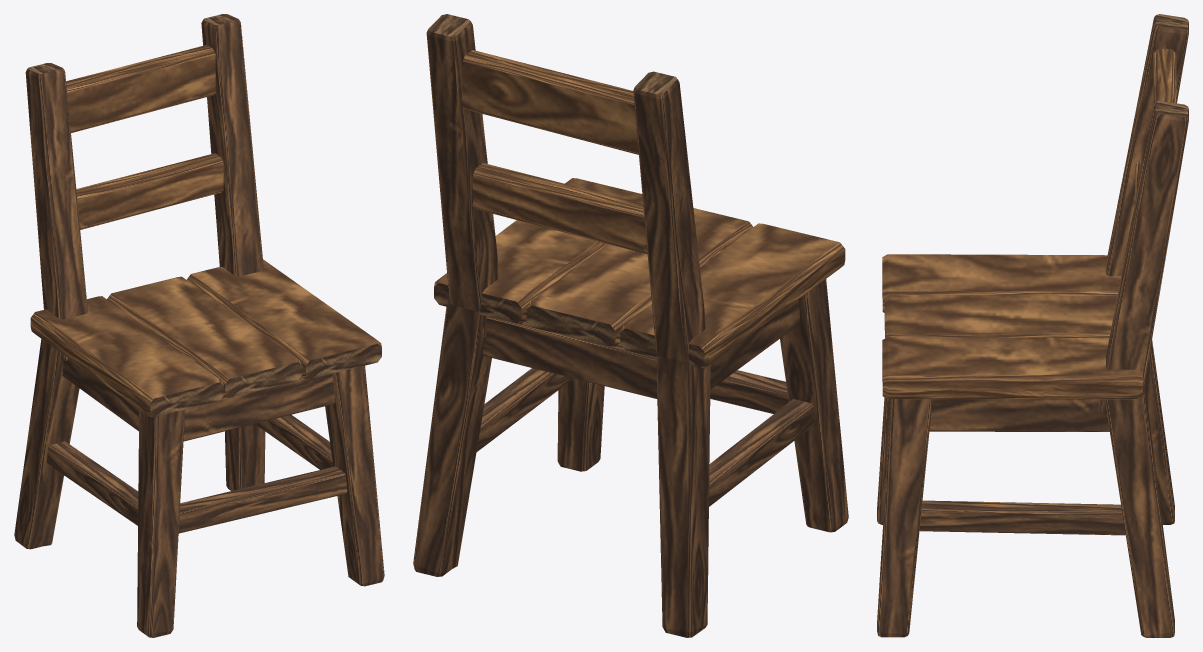
The model's file is Cadeira.glb.
The picture shows the model from 3 angles, left to right: view 1: azimuth 30°, elevation 25°; view 2: azimuth 150°, elevation 25°; view 3: azimuth 270°, elevation 25°; orthographic projection. The views are drawn at different scales.
Parts seen in each view (by area): view 1: Tábuas do assento, Pernas, Montantes do encosto, Encosto, Travessas das pernas, Travessas sob o assento; view 2: Pernas, Tábuas do assento, Montantes do encosto, Encosto, Travessas das pernas, Travessas sob o assento; view 3: Tábuas do assento, Pernas, Montantes do encosto, Travessas das pernas, Travessas sob o assento, Encosto.
Boxes of the visible parts, <box> form: Tábuas do assento: <box>30,259,381,417</box>; Pernas: <box>14,339,384,637</box>; Montantes do encosto: <box>25,14,263,360</box>; Encosto: <box>66,45,223,229</box>; Travessas das pernas: <box>46,414,347,533</box>; Travessas sob o assento: <box>62,358,334,441</box>; Pernas: <box>413,279,848,637</box>; Tábuas do assento: <box>434,178,845,368</box>; Montantes do encosto: <box>426,14,710,368</box>; Encosto: <box>460,50,647,254</box>; Travessas das pernas: <box>476,368,814,506</box>; Travessas sob o assento: <box>482,299,800,398</box>; Tábuas do assento: <box>882,254,1142,399</box>; Pernas: <box>877,340,1174,637</box>; Montantes do encosto: <box>1098,14,1188,413</box>; Travessas das pernas: <box>919,500,1125,535</box>; Travessas sob o assento: <box>929,399,1109,431</box>; Encosto: <box>1135,49,1176,200</box>.
Bounding box in the file's own units: 0.4904 × 0.9303 × 0.5107.
3 materials, 3 textured.
